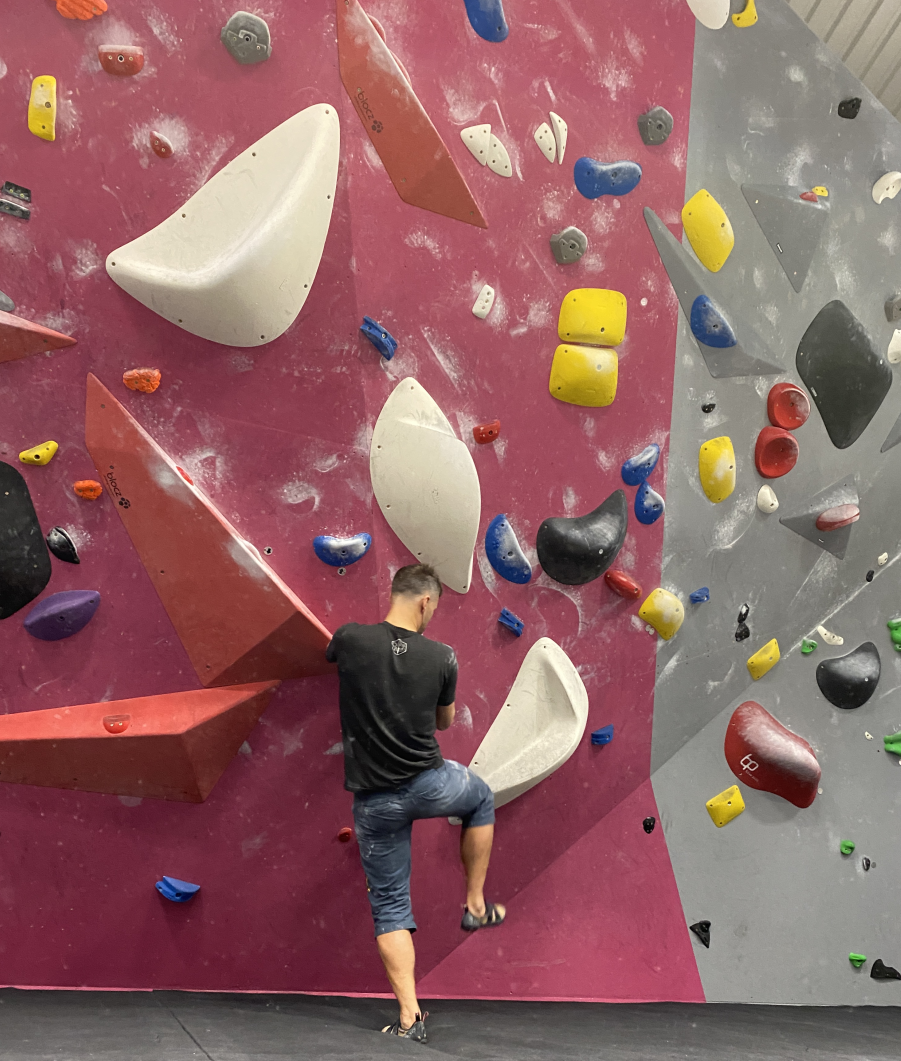hold: (70, 361, 360, 686), (87, 94, 353, 358), (318, 1, 499, 243), (437, 634, 597, 832), (358, 371, 491, 600), (714, 695, 833, 818), (535, 482, 641, 586), (539, 340, 631, 415), (674, 180, 746, 268), (18, 580, 115, 640), (551, 282, 636, 350), (478, 506, 544, 586), (353, 311, 419, 375), (695, 427, 747, 505), (679, 291, 741, 356), (20, 65, 66, 150), (574, 152, 649, 203), (306, 524, 379, 576), (747, 421, 811, 480), (634, 584, 690, 643), (149, 867, 208, 913), (93, 41, 159, 81), (739, 631, 789, 682), (703, 784, 755, 832), (456, 116, 495, 173), (619, 438, 667, 483), (11, 434, 65, 471), (480, 132, 516, 187), (543, 111, 576, 170), (529, 117, 561, 172), (466, 414, 508, 454), (631, 482, 668, 527), (741, 484, 784, 521), (140, 123, 176, 167), (483, 611, 529, 645), (869, 164, 901, 212), (811, 617, 854, 652), (119, 363, 163, 397), (686, 913, 723, 953), (579, 714, 616, 753), (468, 278, 500, 321), (68, 476, 116, 503), (844, 945, 869, 976), (835, 837, 861, 866), (639, 807, 659, 840), (798, 186, 818, 211)
